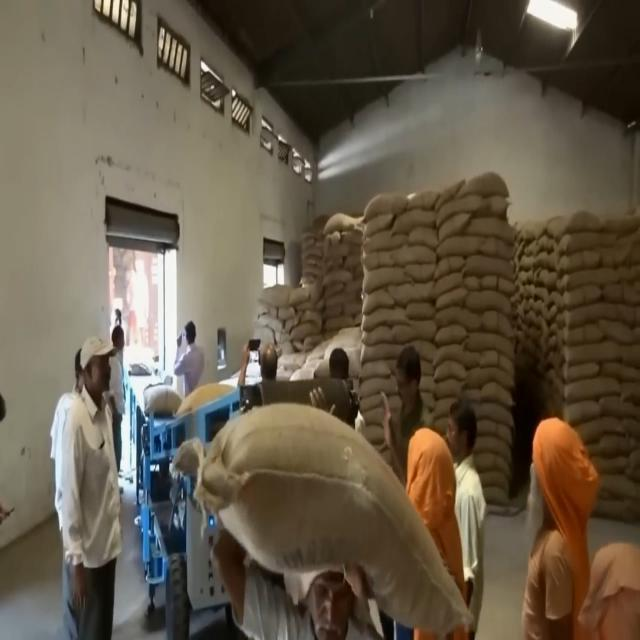gunny_bag: (193, 403, 477, 640), (360, 234, 436, 274), (356, 260, 414, 300), (560, 372, 622, 404), (546, 209, 614, 237), (460, 322, 514, 356), (460, 362, 517, 394), (254, 282, 311, 314), (557, 297, 610, 327), (436, 190, 487, 220), (394, 204, 446, 233), (357, 189, 404, 221), (559, 338, 621, 362), (462, 252, 512, 280), (593, 318, 640, 346), (461, 216, 518, 239), (393, 318, 442, 344), (457, 176, 512, 199), (393, 280, 441, 306), (464, 288, 508, 316), (557, 322, 610, 345), (554, 250, 602, 274), (431, 320, 471, 348), (556, 282, 602, 306), (364, 308, 412, 330), (471, 312, 519, 333), (431, 323, 471, 348), (325, 210, 363, 236), (430, 286, 470, 310), (560, 359, 601, 382), (430, 252, 461, 280), (431, 359, 467, 383), (560, 236, 620, 250), (438, 308, 477, 328), (536, 249, 557, 271), (538, 273, 556, 296)
